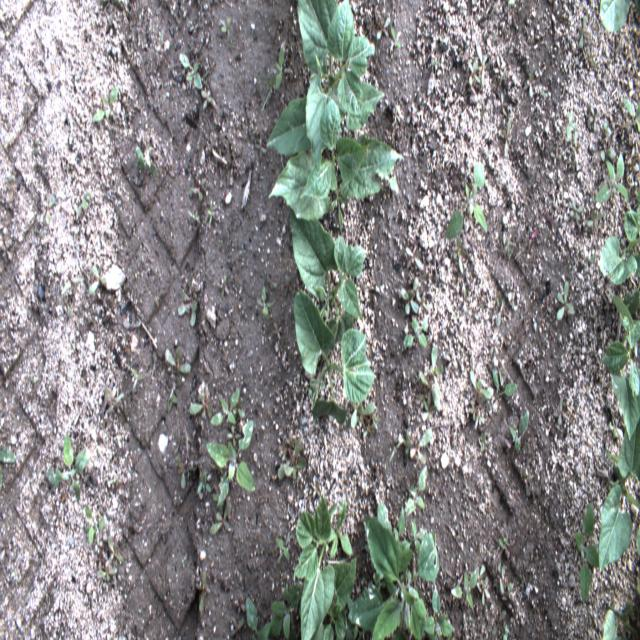crop: (265, 0, 384, 169), (289, 209, 375, 426), (266, 99, 402, 235), (348, 515, 440, 639), (294, 496, 357, 638), (599, 402, 640, 573), (601, 292, 639, 442), (599, 187, 640, 283), (323, 496, 354, 558), (602, 602, 639, 640), (313, 614, 361, 639), (600, 0, 632, 32)
weed: (206, 418, 257, 507), (444, 161, 488, 238), (45, 431, 92, 502), (573, 500, 602, 604), (270, 581, 306, 639), (593, 149, 629, 203), (415, 345, 444, 411), (469, 371, 495, 431), (424, 586, 454, 637), (277, 435, 307, 482), (403, 464, 427, 518), (397, 518, 427, 560), (450, 568, 479, 611), (91, 82, 120, 124), (244, 595, 271, 638), (349, 401, 378, 439), (211, 388, 240, 424), (508, 409, 530, 456), (84, 504, 106, 548), (177, 282, 198, 328), (388, 430, 414, 466), (409, 428, 434, 465), (0, 445, 18, 495), (401, 276, 422, 318), (402, 318, 429, 350), (180, 53, 202, 90), (164, 348, 192, 377), (256, 283, 277, 321), (492, 368, 518, 398), (556, 279, 574, 321), (209, 500, 231, 534), (260, 64, 274, 114), (622, 98, 640, 134), (474, 44, 488, 88), (498, 557, 514, 595), (189, 392, 212, 418), (88, 265, 107, 296), (107, 534, 125, 566), (478, 564, 491, 606), (421, 391, 438, 423), (501, 116, 513, 158), (275, 532, 291, 563), (577, 14, 589, 53), (175, 454, 188, 488), (585, 207, 604, 230), (466, 58, 481, 86), (199, 569, 208, 614), (275, 45, 284, 90), (96, 564, 116, 584), (196, 471, 212, 496), (376, 15, 392, 40), (491, 611, 506, 637), (217, 274, 230, 302), (496, 91, 508, 118), (569, 200, 583, 223), (390, 25, 402, 50), (206, 202, 217, 228), (200, 90, 213, 112), (479, 428, 489, 455), (494, 54, 506, 76), (218, 18, 232, 36), (588, 104, 600, 124), (130, 366, 144, 382), (502, 624, 508, 638), (542, 88, 548, 100), (180, 557, 185, 570)
